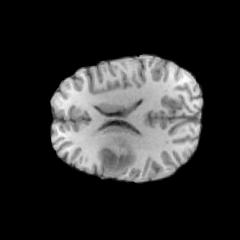glioma: (95, 137, 137, 176)
